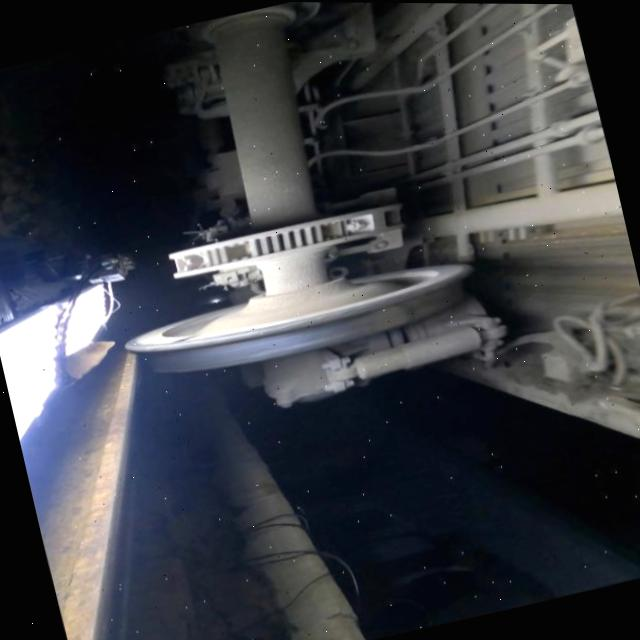Cracks-Scratches: (168, 333, 204, 344)
Shelling: (353, 302, 408, 335), (406, 286, 447, 318)
Wheel: (125, 263, 473, 371)
